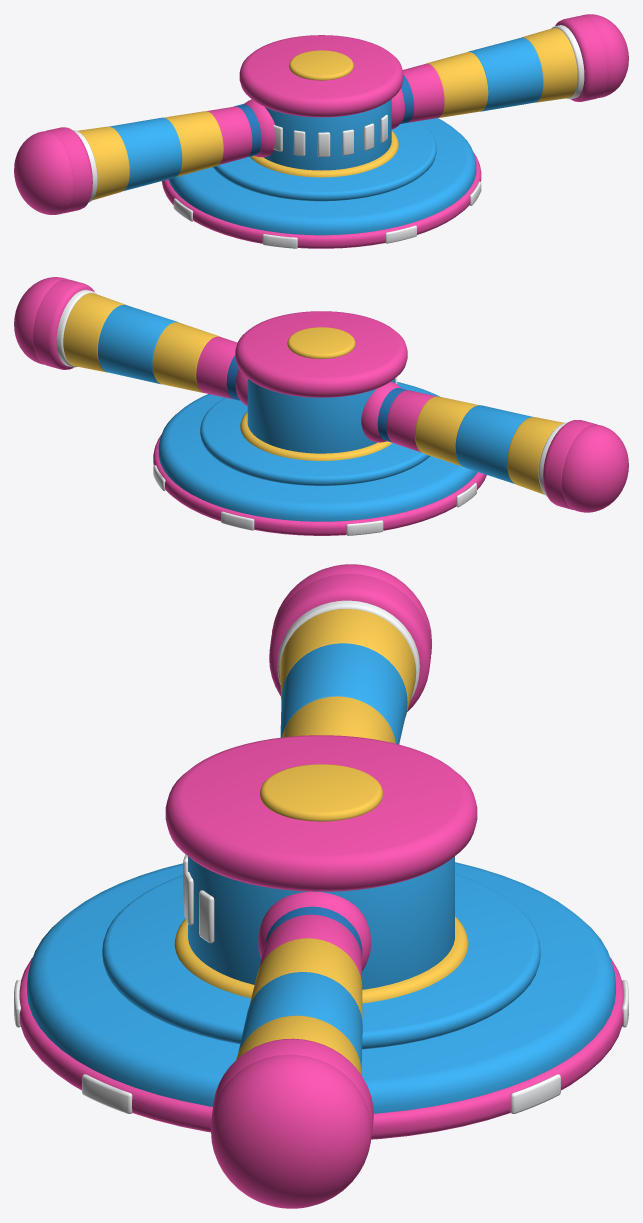
The model's file is DF_sweeper-2-arms.glb.
3 views of the same model, one above another, from view 1: azimuth 30°, elevation 25°; view 2: azimuth 150°, elevation 25°; view 3: azimuth 270°, elevation 25° (orthographic). The views are drawn at different scales.
Visible parts, largest first — view 1: Sweeper_Base, Sweeper_TopPad, Sweeper_Base_TopPlate, Sweeper_Center, Arm_Left_CapTip, Sweeper_Base_PinkRim, Arm_Right_Blue, Arm_Left_Blue, Arm_Right_Yellow, Arm_Right_Outer, Arm_Left_Yellow, Arm_Left_Outer (+16 smaller); view 2: Sweeper_Base, Sweeper_TopPad, Sweeper_Base_TopPlate, Sweeper_Center, Arm_Left_CapTip, Sweeper_Base_PinkRim, Arm_Right_Blue, Arm_Left_Blue, Arm_Right_Yellow, Arm_Right_Outer, Arm_Left_Yellow, Arm_Left_Outer (+14 smaller); view 3: Sweeper_Base, Sweeper_TopPad, Sweeper_Base_TopPlate, Arm_Right_CapTip, Sweeper_Center, Sweeper_Base_PinkRim, Arm_Left_Blue, Sweeper_TopButton, Arm_Left_CapBody, Arm_Right_Blue, Arm_Left_Outer, Sweeper_Center_LowerRing (+10 smaller).
Boxes of the visible parts, box(x1,y1,x2,y2) form: Sweeper_Base: box(168, 103, 476, 235); Sweeper_TopPad: box(239, 35, 403, 117); Sweeper_Base_TopPlate: box(212, 121, 436, 201); Sweeper_Center: box(251, 99, 391, 170); Arm_Left_CapTip: box(14, 131, 73, 214); Sweeper_Base_PinkRim: box(162, 152, 481, 248); Arm_Right_Blue: box(468, 37, 543, 111); Arm_Left_Blue: box(109, 117, 182, 191); Arm_Right_Yellow: box(426, 52, 488, 117); Arm_Right_Outer: box(521, 28, 577, 102); Arm_Left_Yellow: box(163, 111, 223, 176); Arm_Left_Outer: box(77, 126, 129, 200); Sweeper_Base: box(158, 382, 477, 521); Sweeper_TopPad: box(235, 311, 407, 397); Sweeper_Base_TopPlate: box(200, 397, 429, 485); Sweeper_Center: box(247, 378, 395, 453); Arm_Left_CapTip: box(561, 424, 628, 512); Sweeper_Base_PinkRim: box(153, 435, 486, 535); Arm_Right_Blue: box(98, 304, 178, 384); Arm_Left_Blue: box(455, 405, 532, 483); Arm_Right_Yellow: box(152, 322, 219, 393); Arm_Right_Outer: box(63, 293, 125, 372); Arm_Left_Yellow: box(415, 396, 479, 466); Arm_Left_Outer: box(507, 417, 564, 494); Sweeper_Base: box(27, 862, 615, 1113); Sweeper_TopPad: box(165, 735, 477, 891); Sweeper_Base_TopPlate: box(102, 873, 540, 1049); Arm_Right_CapTip: box(211, 1054, 371, 1208); Sweeper_Center: box(188, 856, 454, 989); Sweeper_Base_PinkRim: box(19, 957, 623, 1139); Arm_Left_Blue: box(280, 643, 407, 744); Sweeper_TopButton: box(260, 764, 382, 821); Arm_Left_CapBody: box(269, 574, 431, 711); Arm_Right_Blue: box(238, 972, 362, 1068); Arm_Left_Outer: box(280, 609, 416, 717); Sweeper_Center_LowerRing: box(174, 916, 468, 1003).
Bounding box in the file's own units: 7.51 × 1.48 × 3.59.
